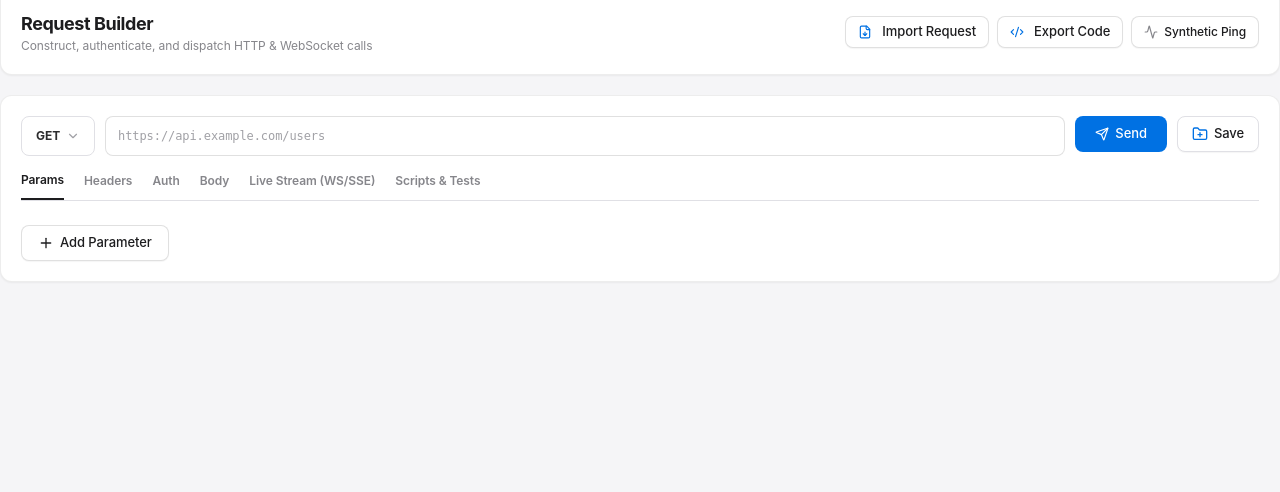
Test: RequestBuilderPage Component Tests › validates empty URL on submit and displays validation error
# Click Send with empty URL
Click the button "Send". click: [1121, 134]
box: [1075,116,1167,152]
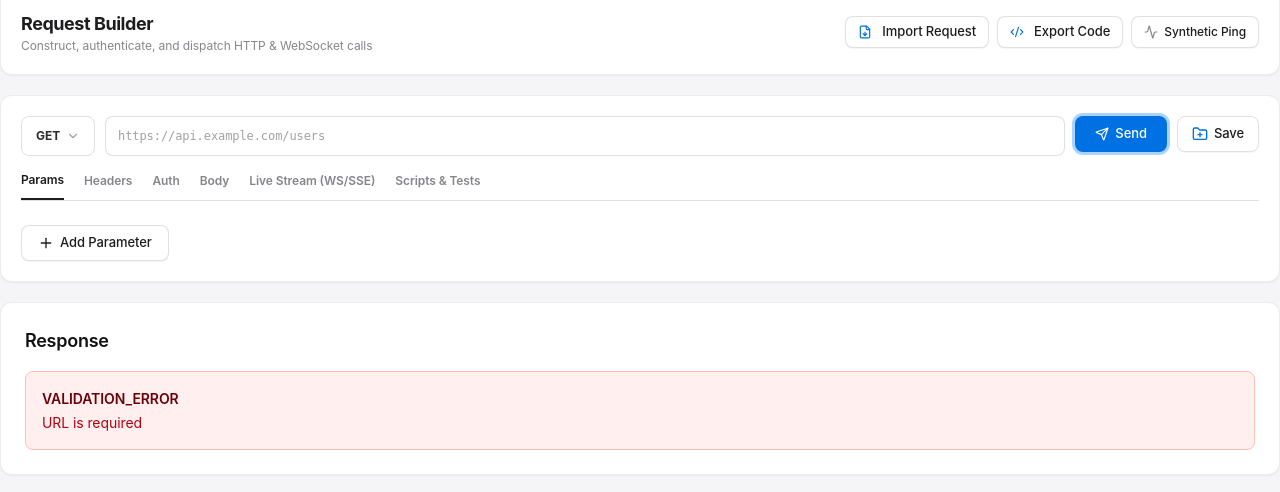
Expected: the text "VALIDATION_ERROR" is shown, [42,390,179,407]
Expected: the text "URL is required" is shown, [42,414,142,431]
